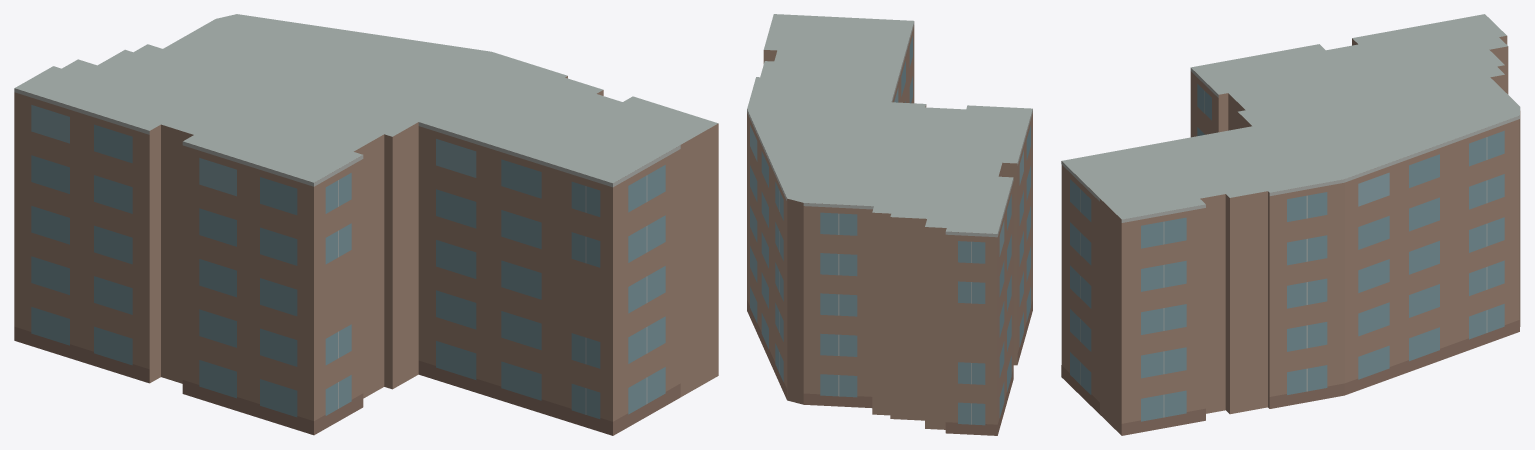
The model's file is survey-upis-32661391.glb.
3 renders of one model, left to right at view 1: azimuth 30°, elevation 25°; view 2: azimuth 150°, elevation 25°; view 3: azimuth 270°, elevation 25°, orthographic. The views are drawn at different scales.
Visible parts, largest first — view 1: survey-upis-32661391.tmp; view 2: survey-upis-32661391.tmp; view 3: survey-upis-32661391.tmp.
Part boxes in pixels (x1,y1,x2,y2): survey-upis-32661391.tmp: (14,14,718,435); survey-upis-32661391.tmp: (747,14,1032,435); survey-upis-32661391.tmp: (1061,14,1520,435).
Size of the model in its own units: 31.1 by 15.25 by 29.33.
